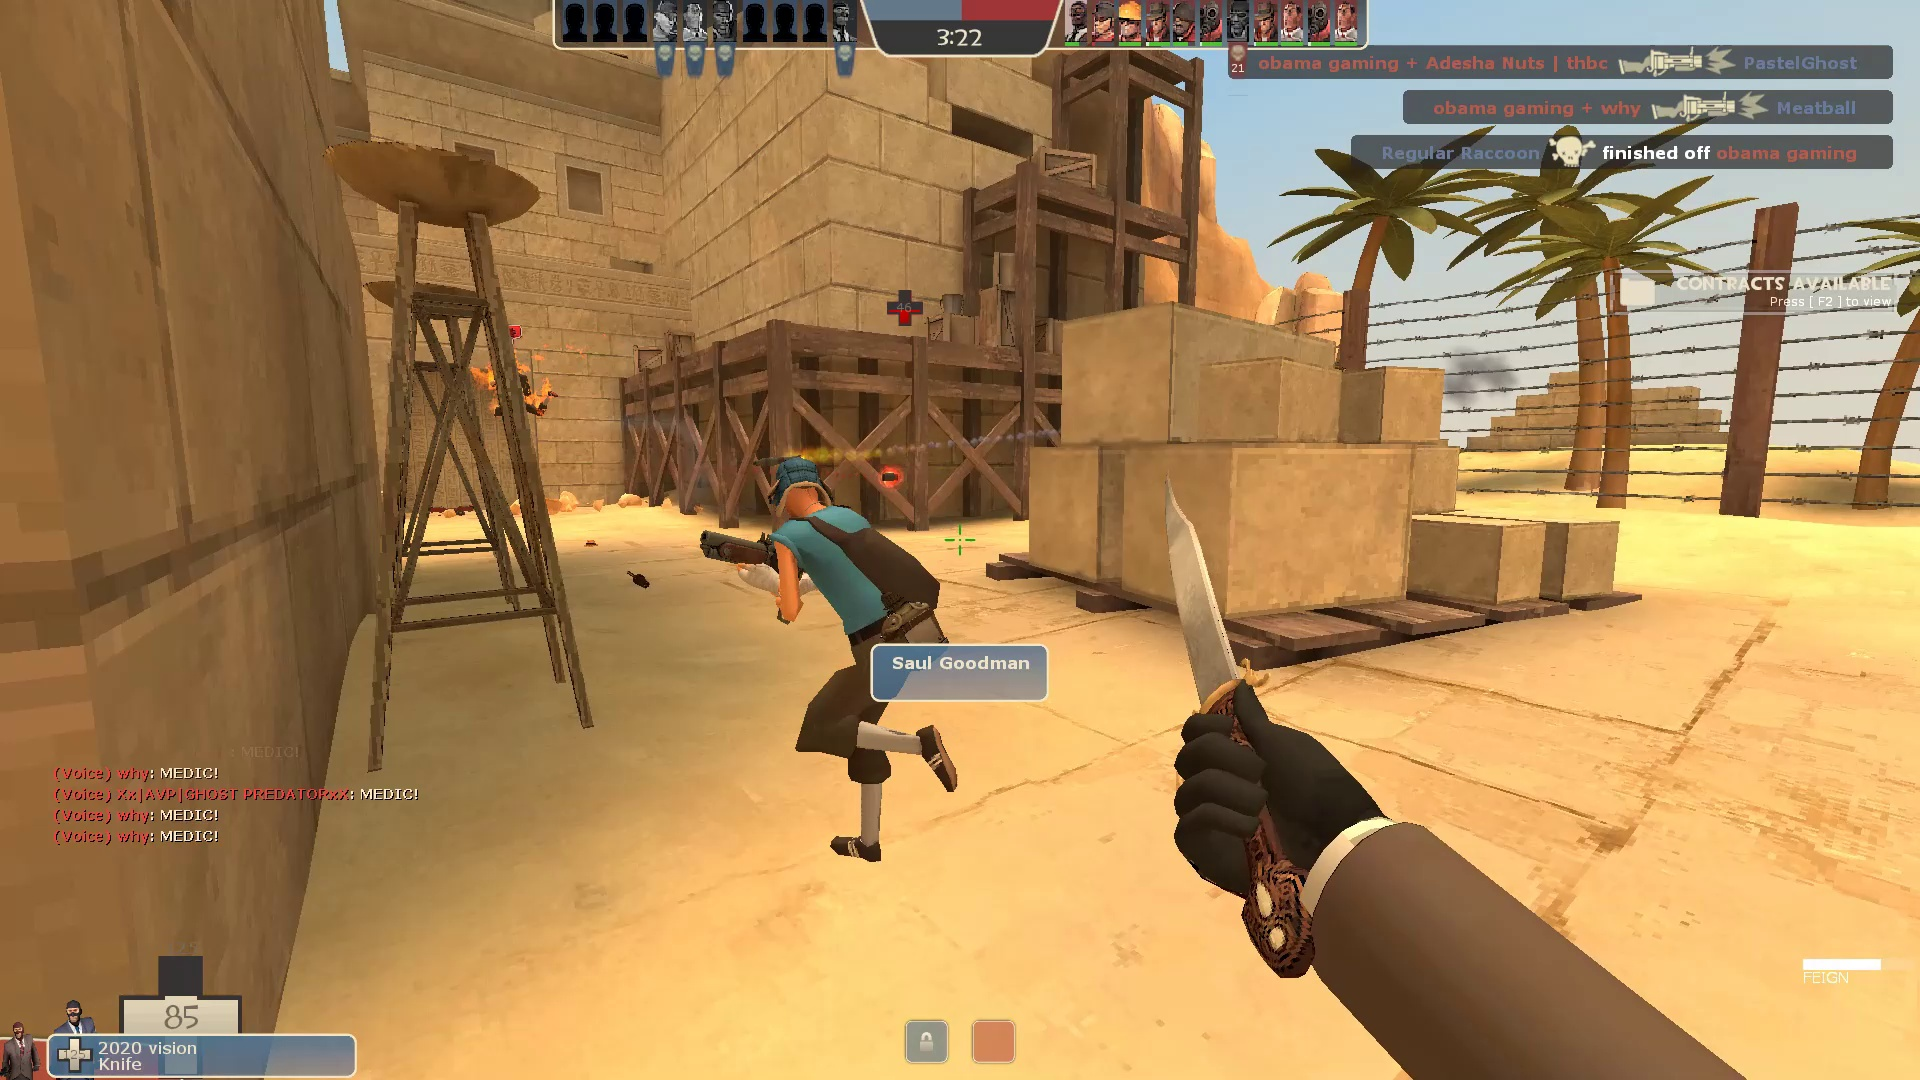blu_scout: (694, 454, 985, 878)
red_scout: (476, 348, 563, 439)
